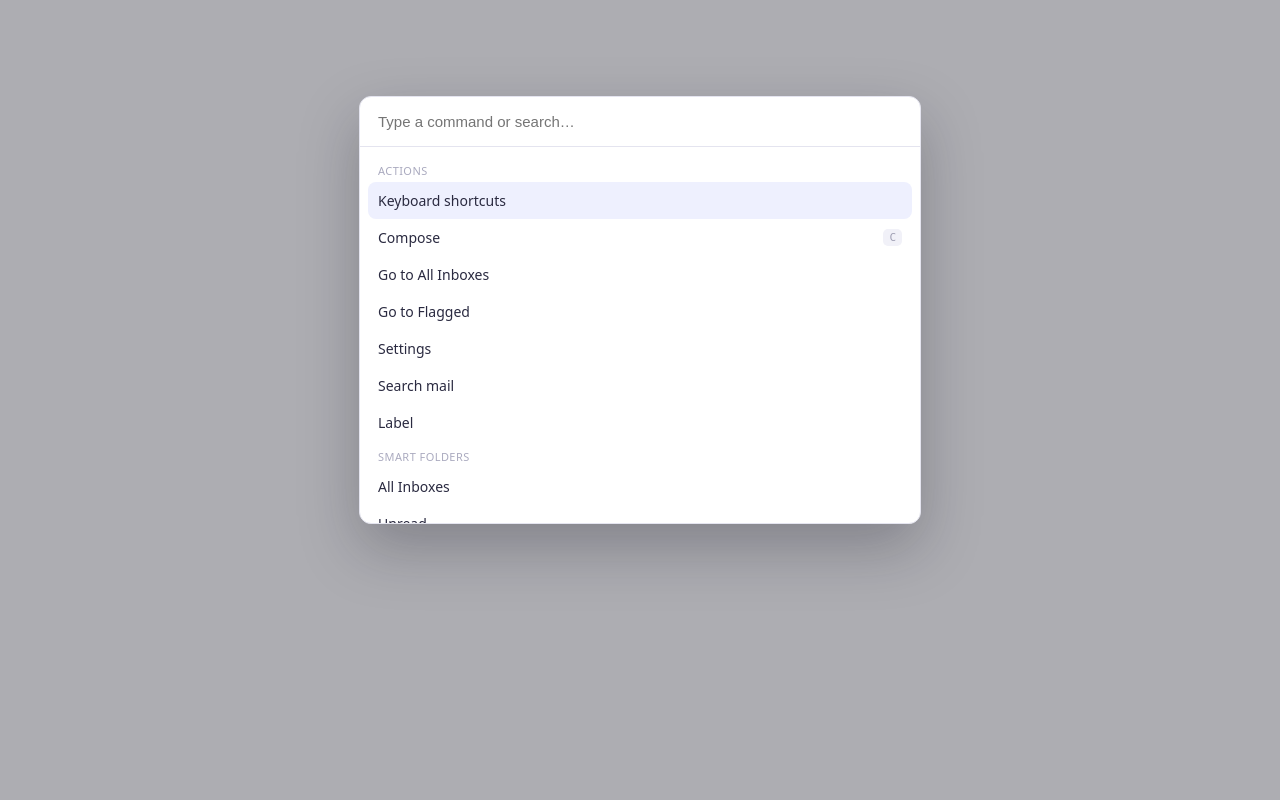
Test case: CommandPalette › filters by query
Type "compo" into the dropdown with placeholder "Type a command or search…" at (658, 122), box [360,97,956,147]
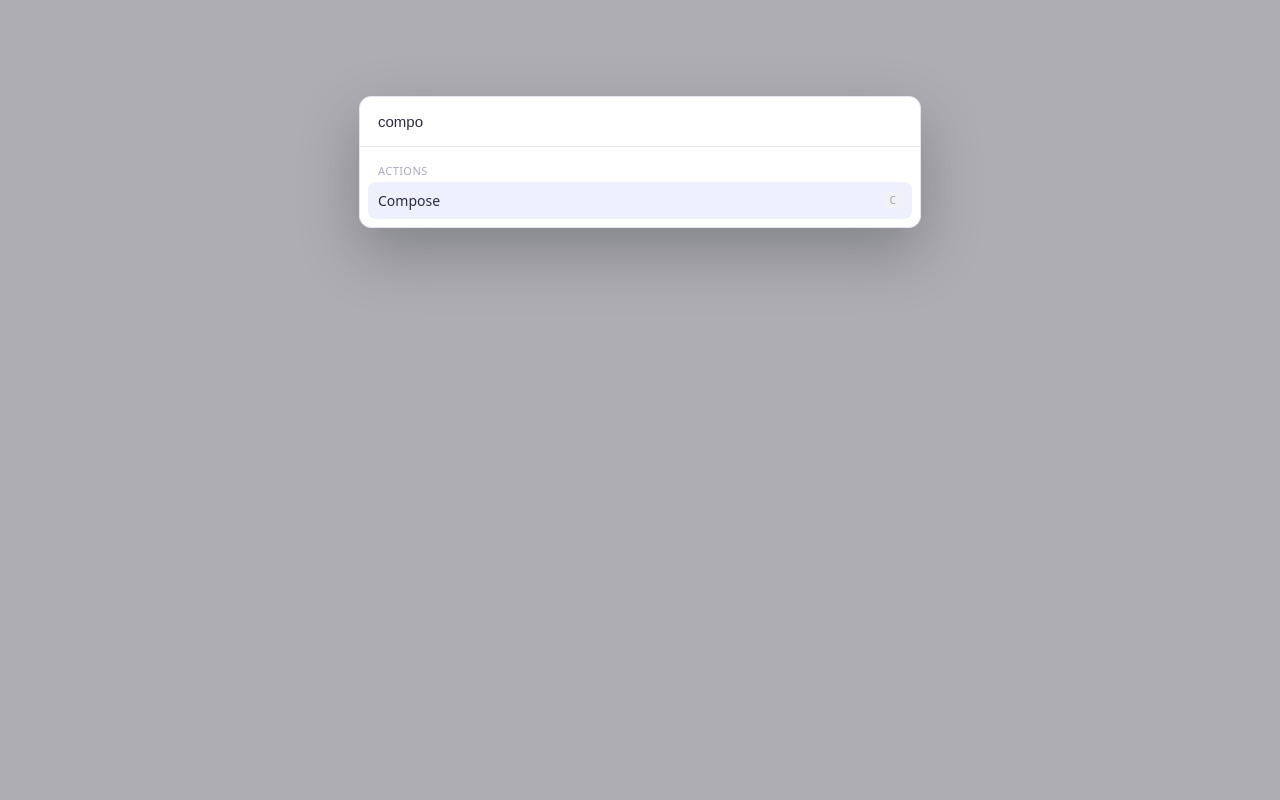
Expected: the text "Compose" is shown, [378,191,440,210]
Expected: the option "Inbox" is gone
